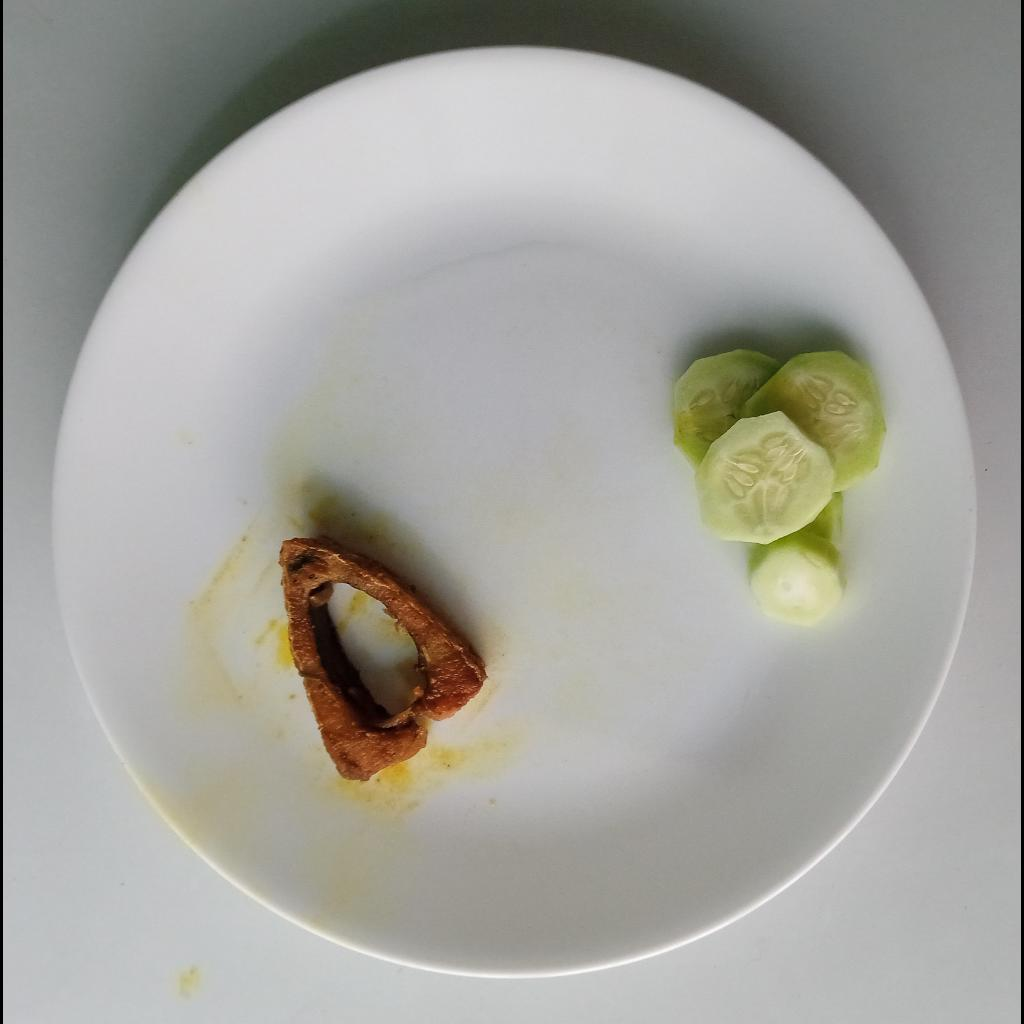cucumber: (664, 351, 888, 630)
fish: (281, 540, 489, 786)
